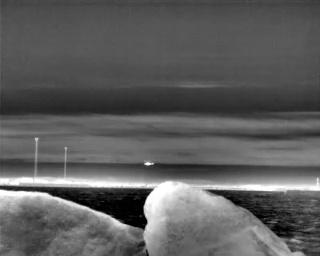HELICOPTER: (141, 158, 158, 170)
